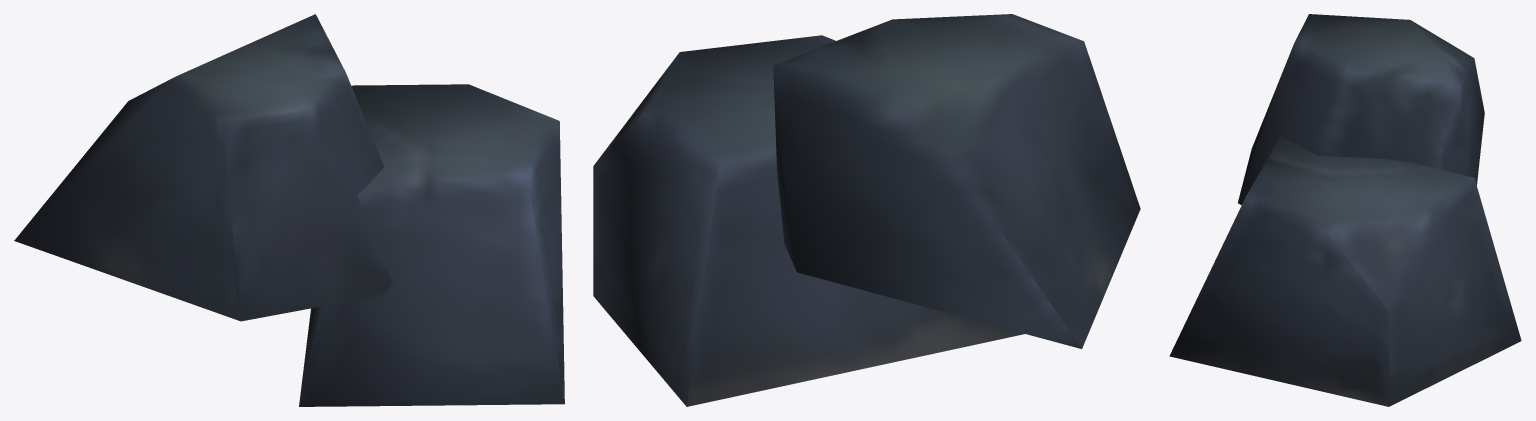
File: Area_05_18.fbx
The picture shows the model from 3 angles, left to right: view 1: azimuth 30°, elevation 25°; view 2: azimuth 150°, elevation 25°; view 3: azimuth 270°, elevation 25°; orthographic projection. The views are drawn at different scales.
Visible parts, largest first — view 1: Area_05_18; view 2: Area_05_18; view 3: Area_05_18.
Boxes of the visible parts, x1,y1,x2,y2 form: Area_05_18: (14,14,564,406); Area_05_18: (593,14,1140,406); Area_05_18: (1169,14,1521,406).
Bounding box in the file's own units: 768 × 426 × 576.
